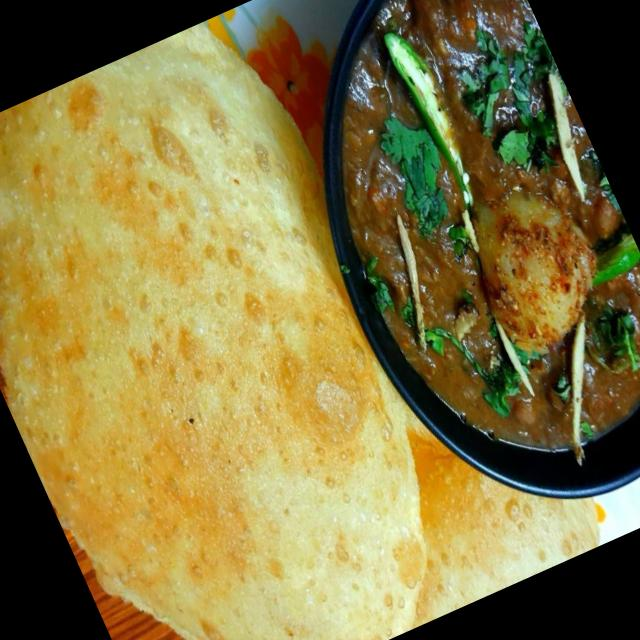Bhatura: (0, 4, 503, 640), (246, 337, 611, 640)
